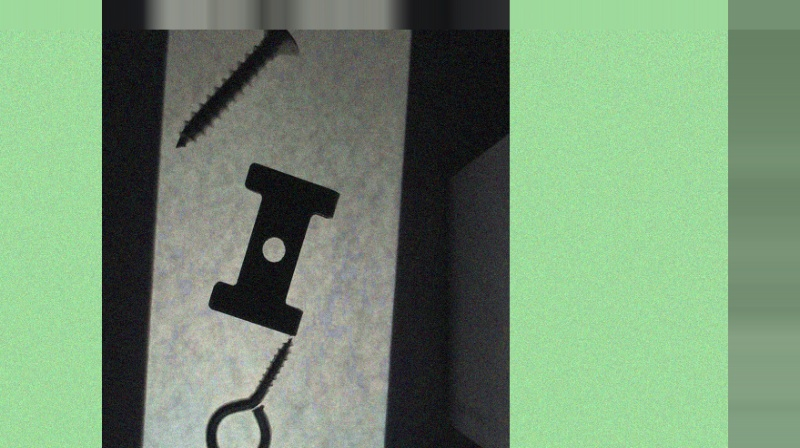O001: (203, 336, 294, 447)
O002: (207, 162, 340, 333)
S001: (174, 11, 300, 150)
